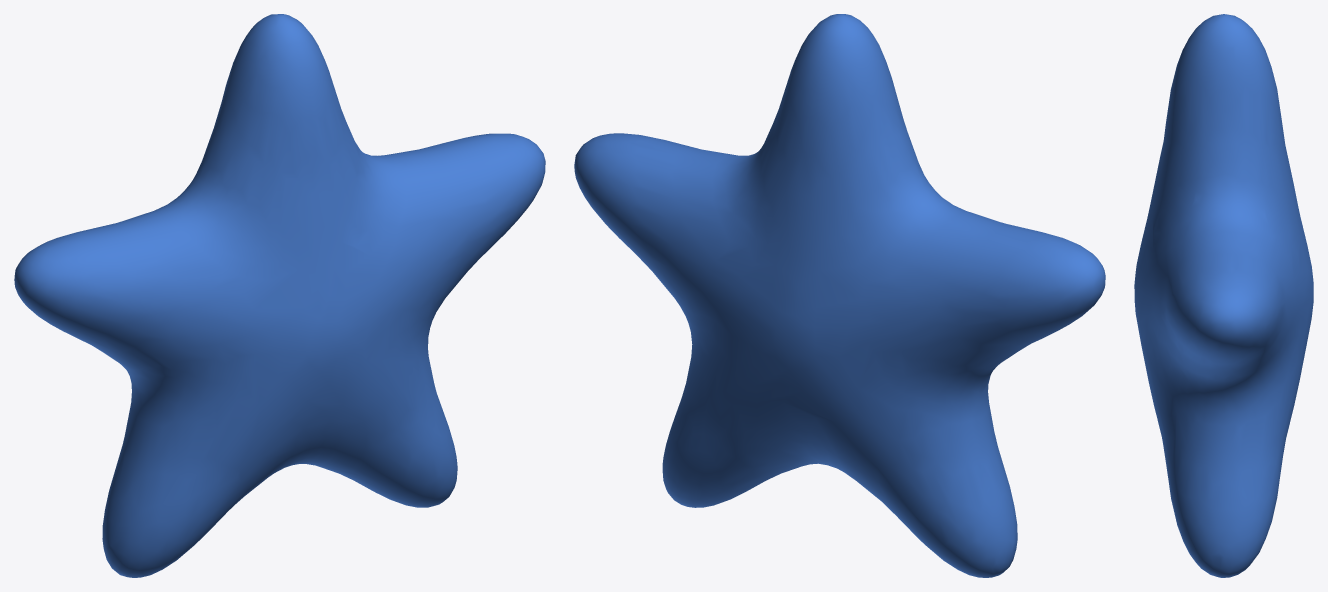
The model's file is mascot.glb.
3 views of the same model, side by side, from view 1: azimuth 30°, elevation 25°; view 2: azimuth 150°, elevation 25°; view 3: azimuth 270°, elevation 25° (orthographic). The views are drawn at different scales.
Visible parts, largest first — view 1: BelnaStar; view 2: BelnaStar; view 3: BelnaStar.
Boxes of the visible parts, box(x1,y1,x2,y2) form: BelnaStar: box(14, 14, 545, 577); BelnaStar: box(574, 14, 1105, 577); BelnaStar: box(1134, 14, 1313, 577).
Size of the model in its own units: 1.74 by 1.67 by 0.5501.
